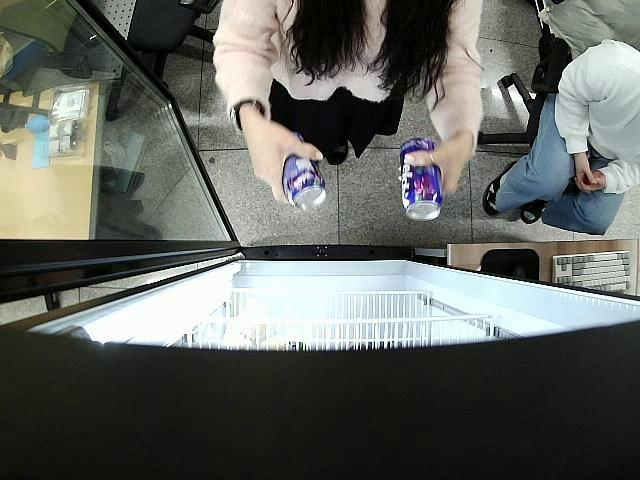14_welchsGrape: (399, 136, 444, 222), (282, 132, 326, 213)
